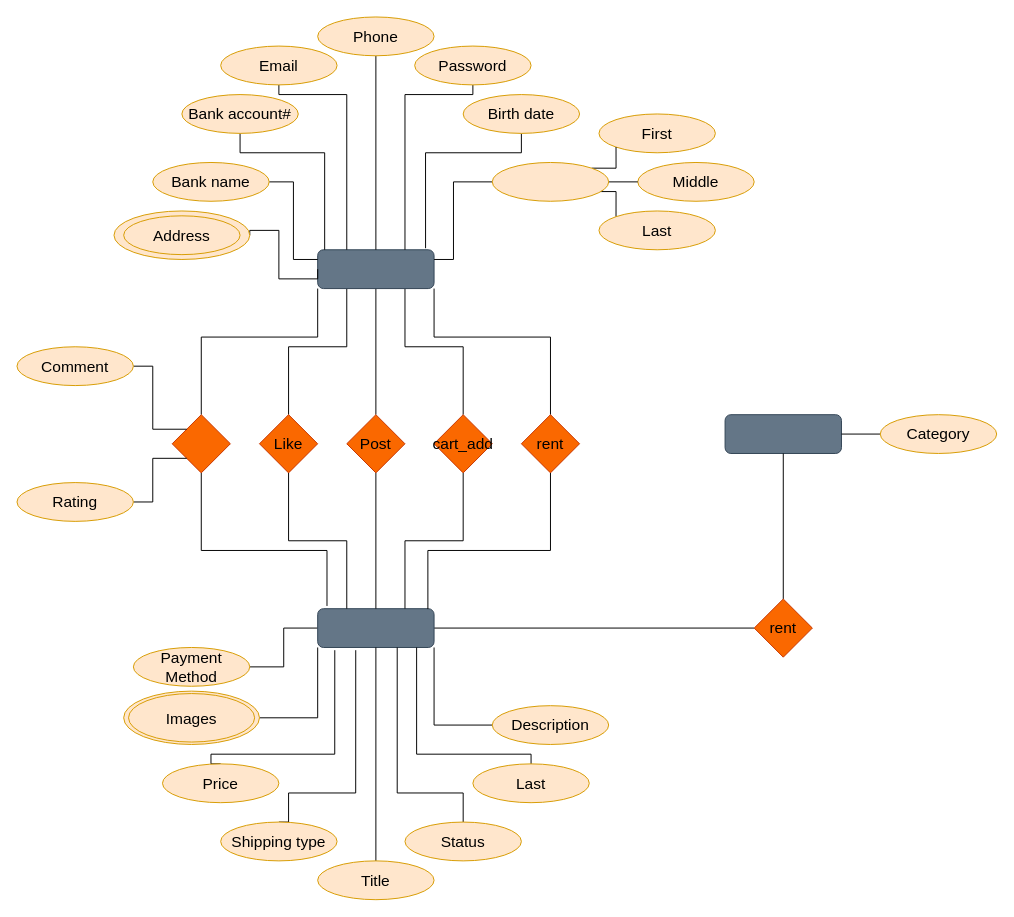
Some shapes in this 1014 by 917 pixel diagram are drawn without their labels. The centre of each missing label's shape, as x and y in pixels:
Item: point 375,627
Name: point 550,181
review: point 200,443
Tag: point 782,433
User: point 375,269
